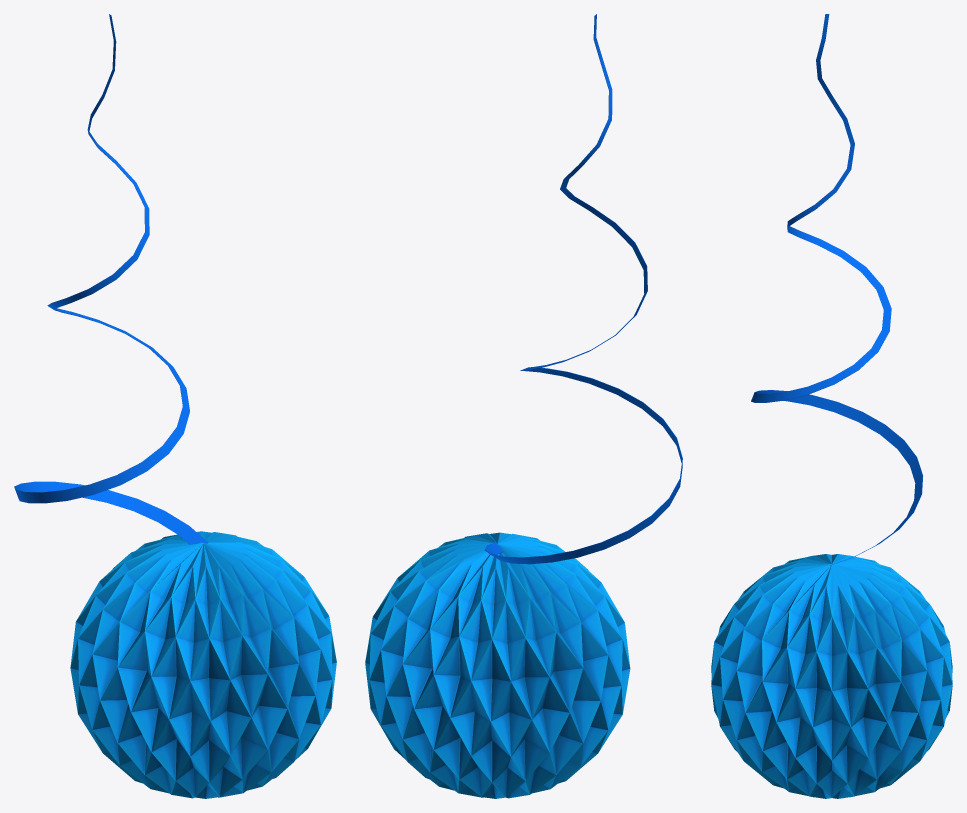
The model's file is PartyHangings01D_8.FBX.
3 views of the same model, side by side, from view 1: azimuth 30°, elevation 25°; view 2: azimuth 150°, elevation 25°; view 3: azimuth 270°, elevation 25° (orthographic). The views are drawn at different scales.
Visible parts, largest first — view 1: PartyHangings01D_8; view 2: PartyHangings01D_8; view 3: PartyHangings01D_8.
Boxes of the visible parts, <box> form: PartyHangings01D_8: <box>14,14,336,798</box>; PartyHangings01D_8: <box>365,14,682,798</box>; PartyHangings01D_8: <box>711,14,952,798</box>.
Size of what is drawn, in the model's own units: 0.4588 by 1.21 by 0.3614.
